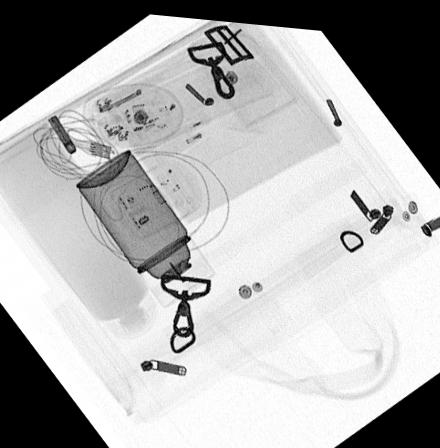Sprayer: (72, 143, 217, 306)
